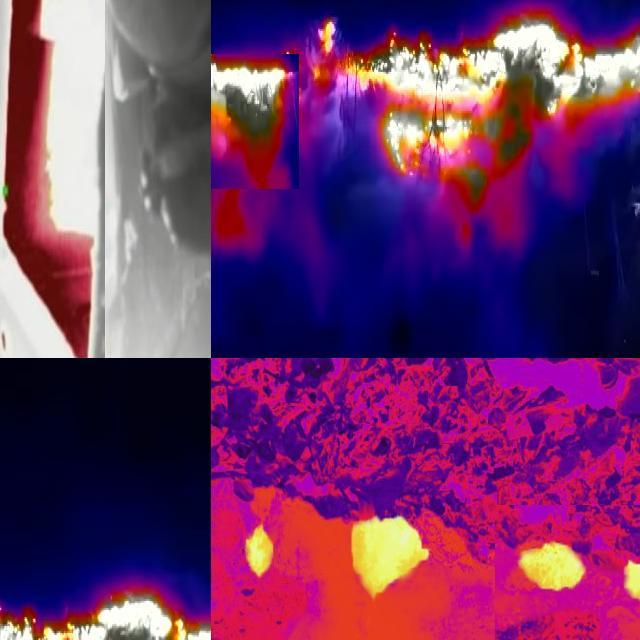fire: (311, 13, 640, 197), (1, 1, 106, 359), (496, 506, 640, 640), (321, 489, 451, 626), (212, 55, 300, 190), (231, 478, 295, 590)
